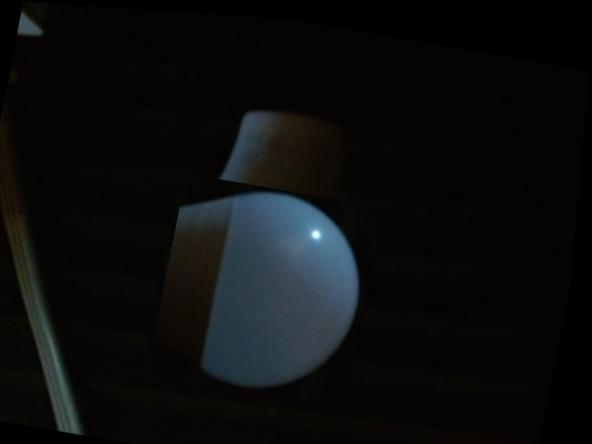Fan: (150, 170, 385, 401)
